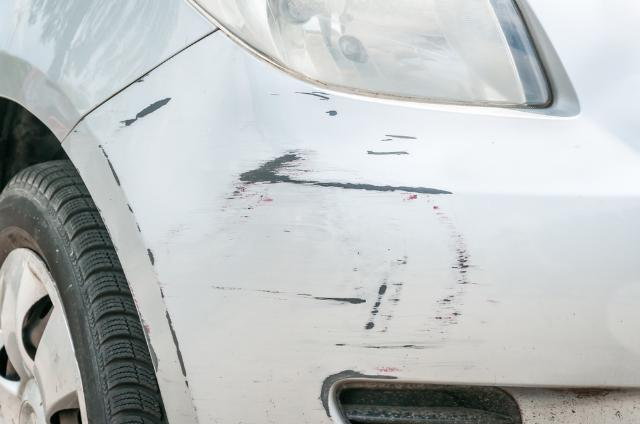scratch: (179, 89, 474, 422), (97, 96, 189, 391)
